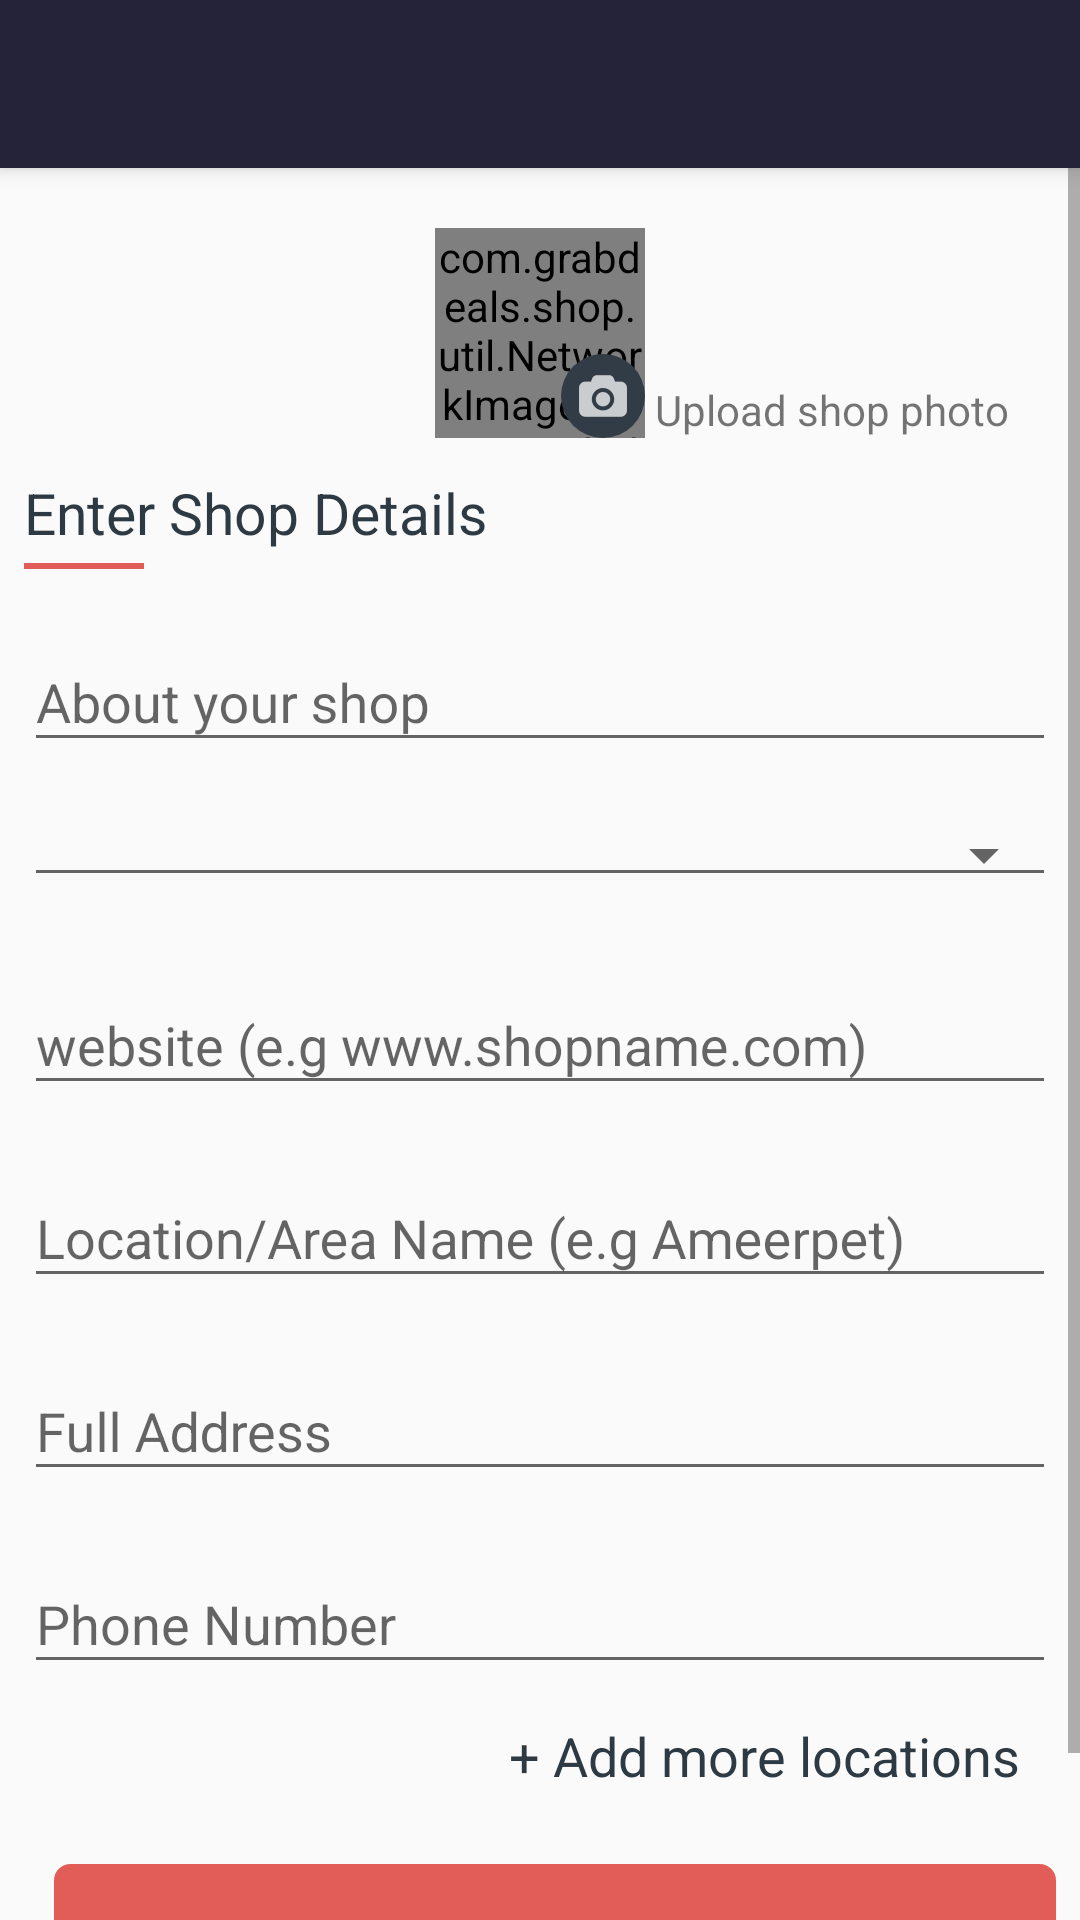

Where to tap for icons on this 1080*1920 app screen, as (x,y):
photo camera: (603,396)
